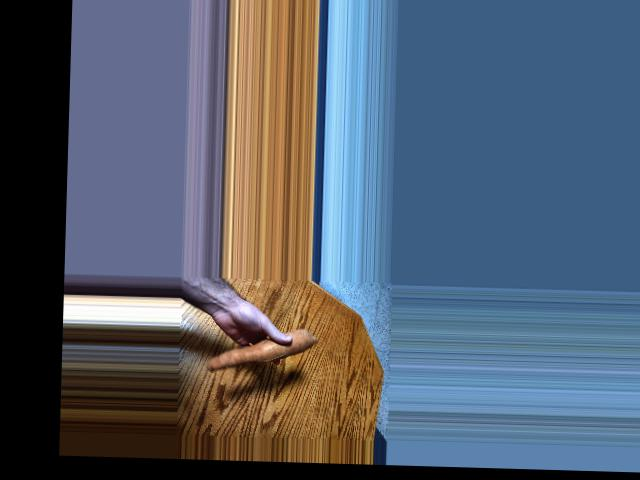sweet_potato: (201, 332, 314, 365)
